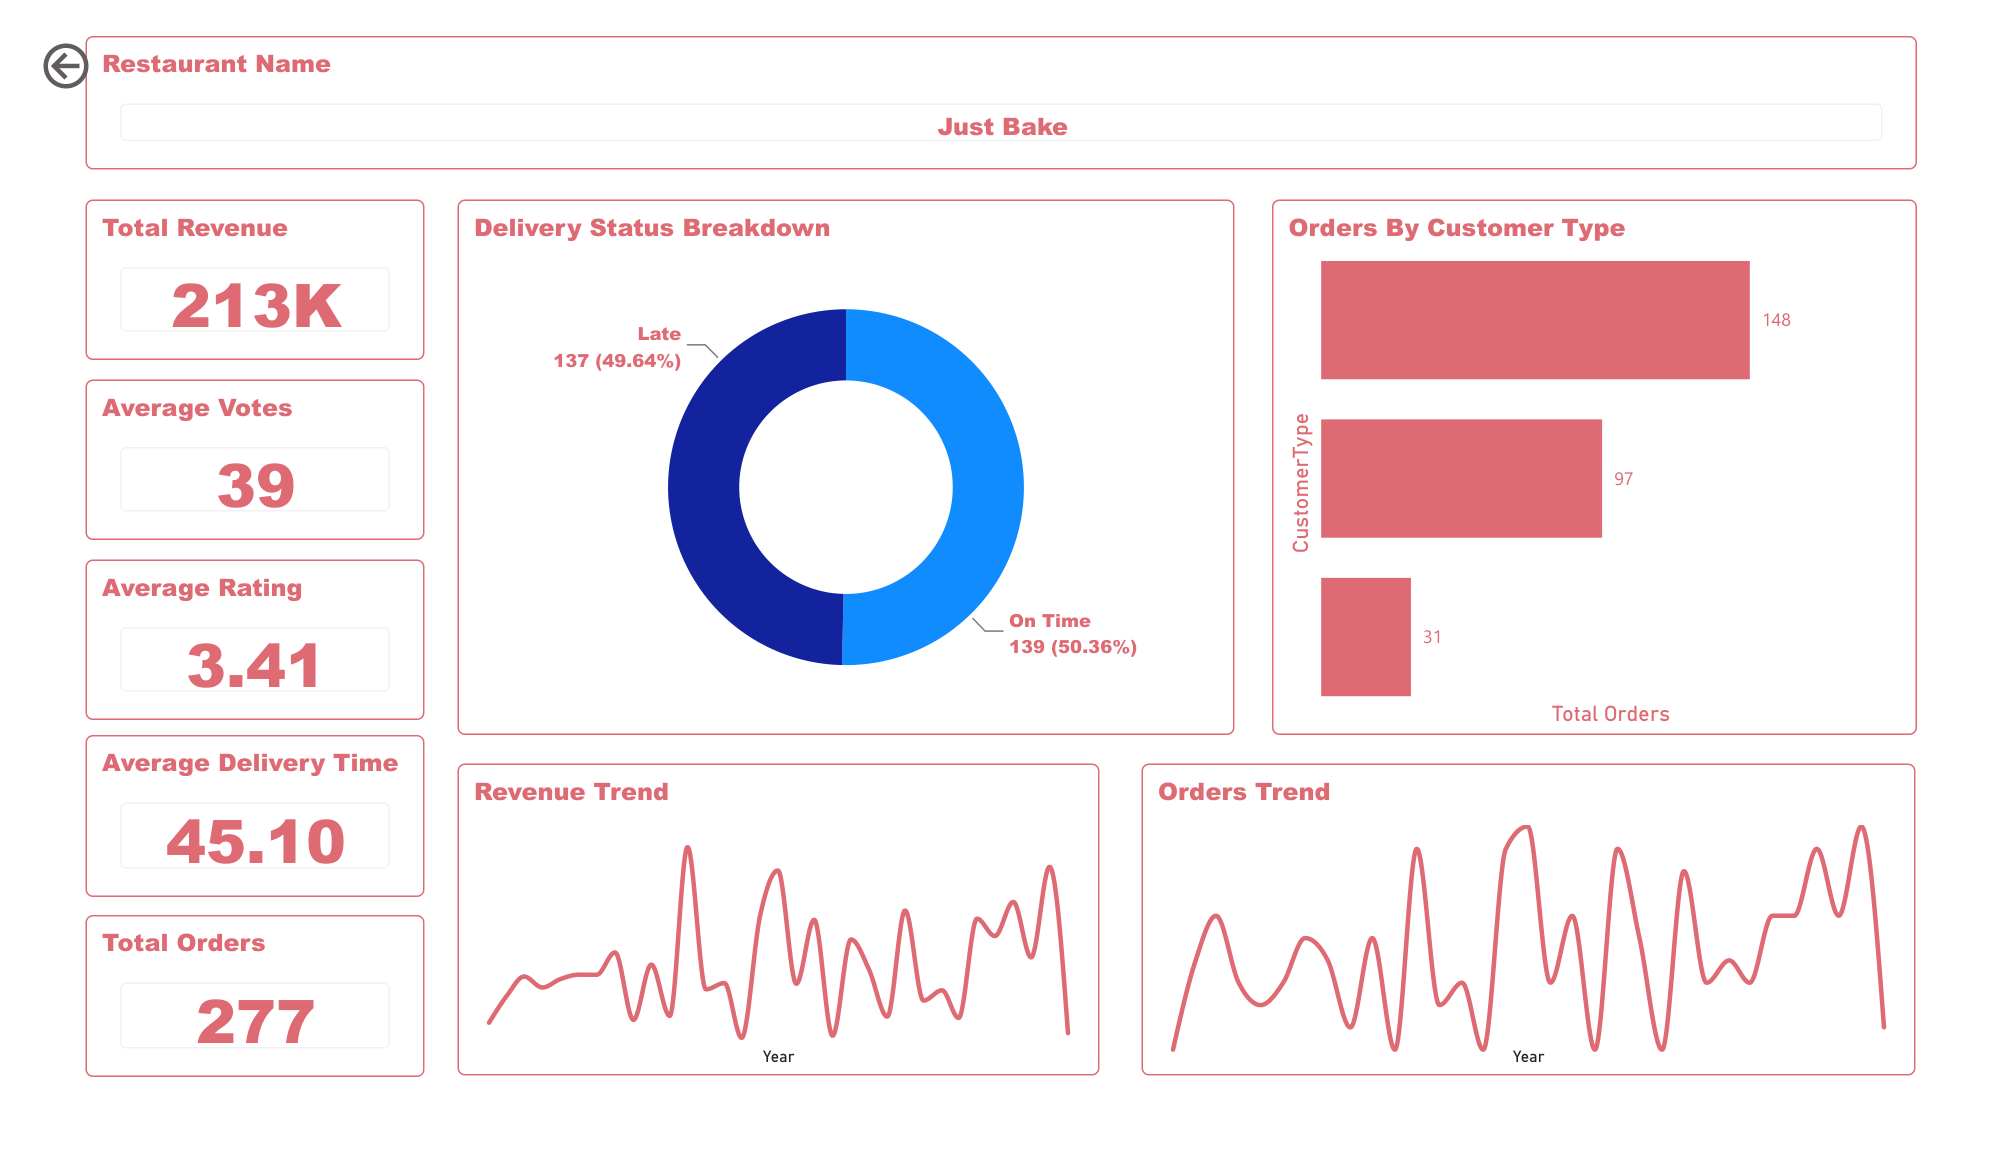

The dashboard page shown, as its layout file describes it:
{"tool":"powerbi","page":{"name":"Restaurants Details","canvas":[1280,720],"ordinal":4},"visuals":[{"type":"cardVisual","title":"Average Delivery Time","fields":{"Data":["Orders.Avg Delivery Time"]},"box":[32.5,466.2,226.2,107.5],"z":0},{"type":"cardVisual","title":"Total Revenue","fields":{"Data":["Orders.Total Revenue"]},"box":[32.5,108.8,226.2,107.5],"z":1000},{"type":"cardVisual","title":"Average Votes","fields":{"Data":["Orders.Avg Votes"]},"box":[32.5,228.8,226.2,107.5],"z":2000},{"type":"cardVisual","title":"Average Rating","fields":{"Data":["Orders.Avg Rating"]},"box":[32.5,348.8,226.2,107.5],"z":3000},{"type":"cardVisual","title":"Total Orders","fields":{"Data":["Orders.Total Orders"]},"box":[32.5,586.2,226.2,107.5],"z":4000},{"type":"cardVisual","title":"Restaurant Name","fields":{"Data":["Min(Restaurants.name)"]},"box":[32.5,0,1221.2,88.8],"z":5000},{"type":"lineChart","title":"Revenue Trend","fields":{"Y":["Orders.Total Revenue"],"Category":["DateTable.Date.Variation.Date Hierarchy.Year","DateTable.Date.Variation.Date Hierarchy.Month"]},"box":[281.4,484.9,427.9,208.1],"z":6000},{"type":"lineChart","title":"Orders Trend","fields":{"Y":["Orders.Total Orders"],"Category":["DateTable.Date.Variation.Date Hierarchy.Year","DateTable.Date.Variation.Date Hierarchy.Month"]},"box":[737.2,484.9,516.3,208.1],"z":7000},{"type":"clusteredBarChart","title":"Orders By Customer Type","fields":{"Category":["Customers.CustomerType"],"Y":["Orders.Total Orders"]},"box":[823.8,108.8,430,357.5],"z":8000},{"type":"actionButton","box":[0,0,100,40],"z":9000},{"type":"donutChart","title":"Delivery  Status Breakdown","fields":{"Y":["Orders.Total Orders"],"Category":["Orders.Delivery Status"]},"box":[281.2,108.8,517.5,357.5],"z":10000}]}

Visuals, with their boxes in screenshot pixels (x1, y1, x2, y2), scaled from the page's 1280x720 canvas onto the 1992x1152 screenshot:
"Average Delivery Time" cardVisual: rect(51, 746, 403, 918)
"Total Revenue" cardVisual: rect(51, 174, 403, 346)
"Average Votes" cardVisual: rect(51, 366, 403, 538)
"Average Rating" cardVisual: rect(51, 558, 403, 730)
"Total Orders" cardVisual: rect(51, 938, 403, 1110)
"Restaurant Name" cardVisual: rect(51, 0, 1951, 142)
"Revenue Trend" lineChart: rect(438, 776, 1104, 1109)
"Orders Trend" lineChart: rect(1147, 776, 1951, 1109)
"Orders By Customer Type" clusteredBarChart: rect(1282, 174, 1951, 746)
actionButton: rect(0, 0, 156, 64)
"Delivery  Status Breakdown" donutChart: rect(438, 174, 1243, 746)
